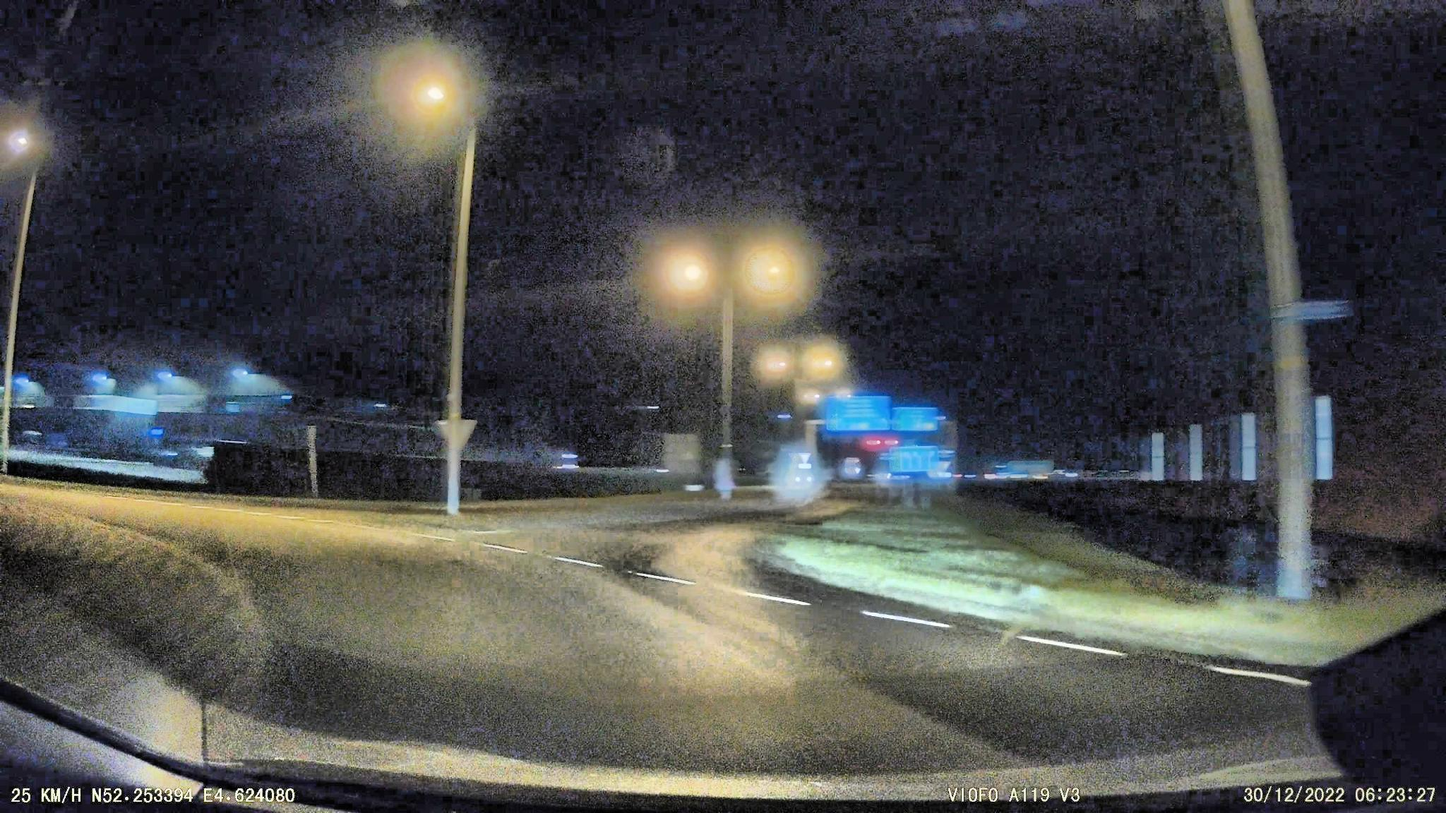Roads: (222, 501, 1315, 775)
